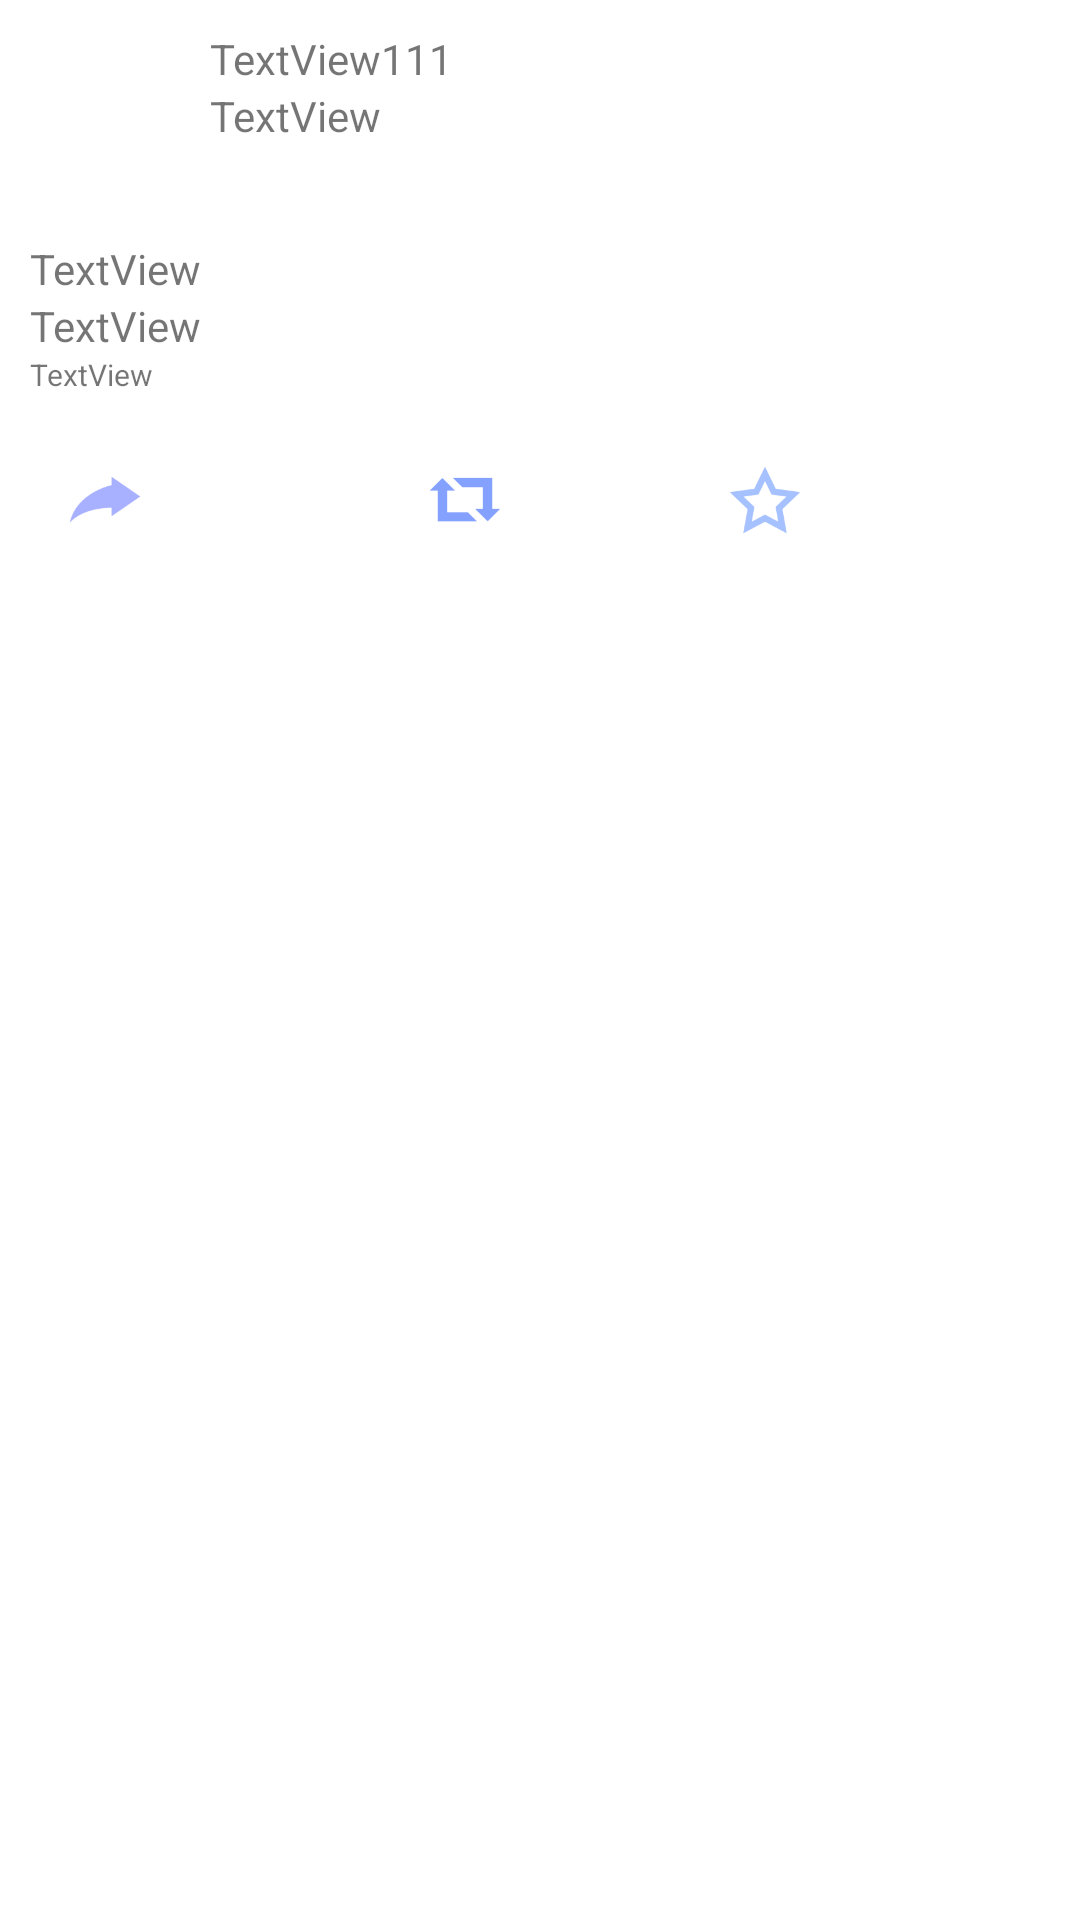

Icon bounding boxes for this 1080px x 1920px phone screenshot, format (x1,y1,x2,y2):
retweet: (430,478,500,522)
star: (730,467,800,533)
